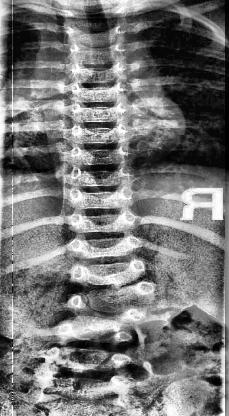Vertebrae: (36, 363, 132, 391), (48, 342, 128, 372), (70, 281, 158, 307), (67, 298, 145, 324), (58, 320, 132, 347), (74, 235, 138, 262), (74, 212, 138, 237), (70, 184, 130, 210), (77, 260, 141, 284), (70, 82, 132, 106), (70, 122, 132, 146), (68, 145, 130, 167), (72, 166, 134, 188), (70, 44, 124, 66), (71, 102, 129, 122), (68, 24, 124, 44), (69, 66, 125, 86)
